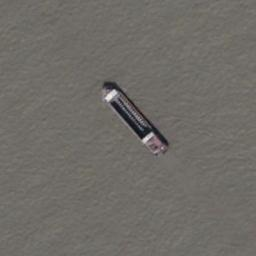boat: (99, 80, 170, 158)
